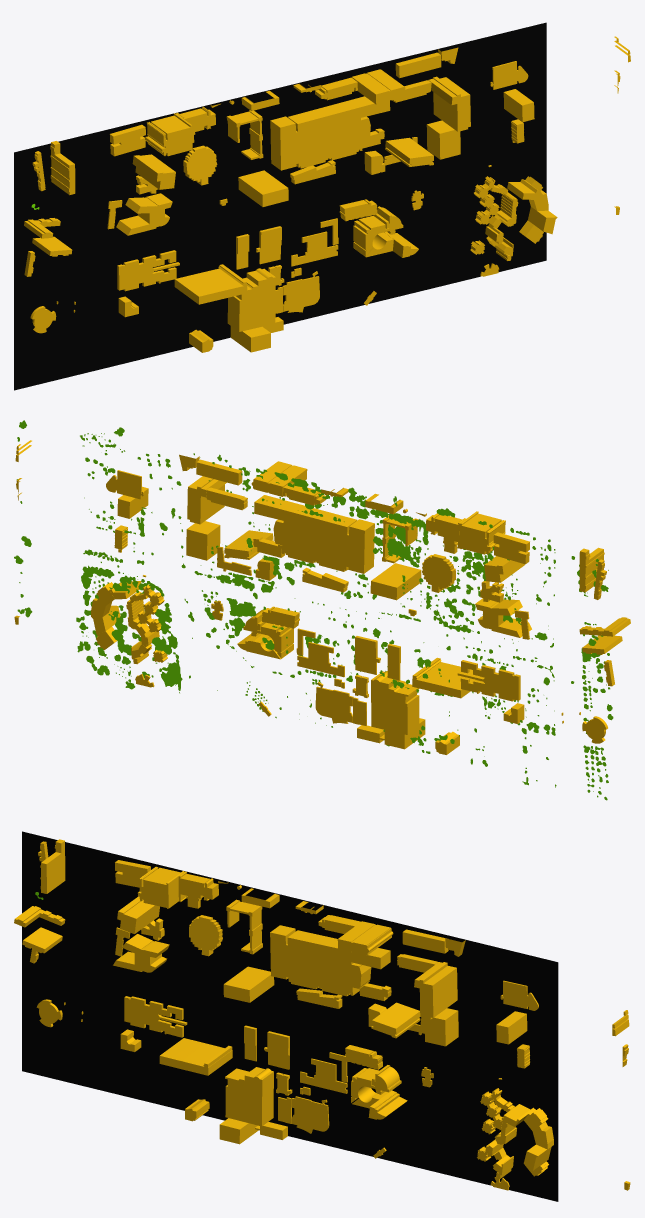
Rendered from existing_buildings_04.glb.
3 views of the same model, one above another, from view 1: azimuth 30°, elevation 25°; view 2: azimuth 150°, elevation 25°; view 3: azimuth 330°, elevation 25° (orthographic).
Visible parts, largest first — view 1: Layer 04, existing_building, existing_building - Copy; view 2: existing_building, treesurface, existing_building - Copy; view 3: Layer 04, existing_building, existing_building - Copy.
Boxes of the visible parts, x1,y1,x2,y2 form: Layer 04: [14, 22, 546, 390]; existing_building: [24, 40, 630, 352]; existing_building - Copy: [24, 36, 618, 333]; existing_building: [14, 440, 630, 754]; treesurface: [14, 420, 613, 800]; existing_building - Copy: [16, 444, 614, 743]; Layer 04: [22, 831, 558, 1201]; existing_building: [14, 851, 630, 1190]; existing_building - Copy: [30, 839, 628, 1190].
Bounding box in the file's own units: 1130 × 458 × 78.19.
